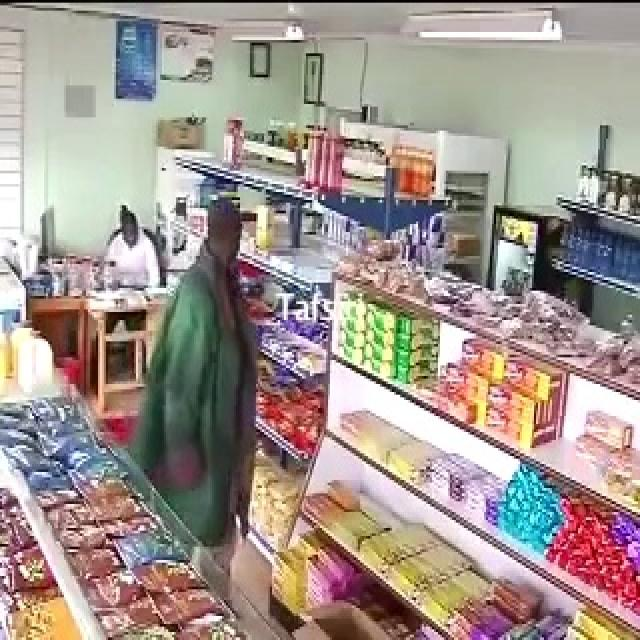normal: (147, 195, 287, 520), (108, 192, 153, 280)
